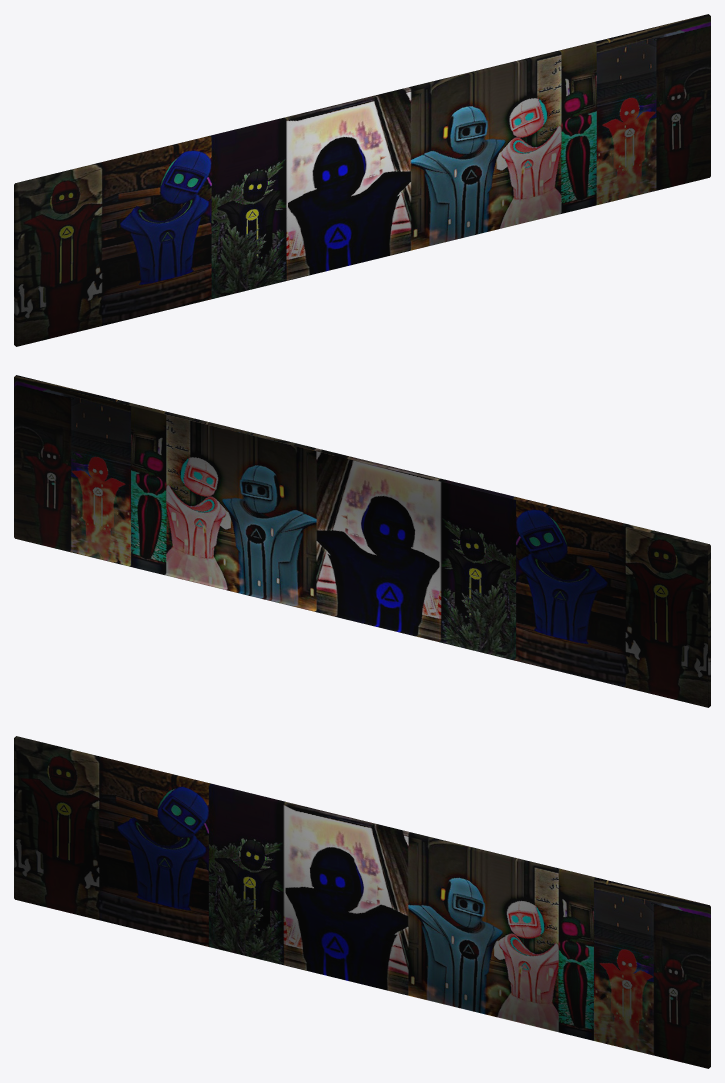
The model's file is backwallfar.obj.
3 views of the same model, one above another, from view 1: azimuth 30°, elevation 25°; view 2: azimuth 150°, elevation 25°; view 3: azimuth 330°, elevation 25° (orthographic).
Parts seen in each view (by area): view 1: Main.001_Combined_Mesh_(root:_scene).002; view 2: Main.001_Combined_Mesh_(root:_scene).002; view 3: Main.001_Combined_Mesh_(root:_scene).002.
Boxes of the visible parts, <box> form: Main.001_Combined_Mesh_(root:_scene).002: <box>14,14,710,346</box>; Main.001_Combined_Mesh_(root:_scene).002: <box>14,375,710,707</box>; Main.001_Combined_Mesh_(root:_scene).002: <box>14,736,710,1068</box>.
Bounding box in the file's own units: 6.21 × 1.39 × 0.0409.
Materials: 1 (1 with a texture image).
